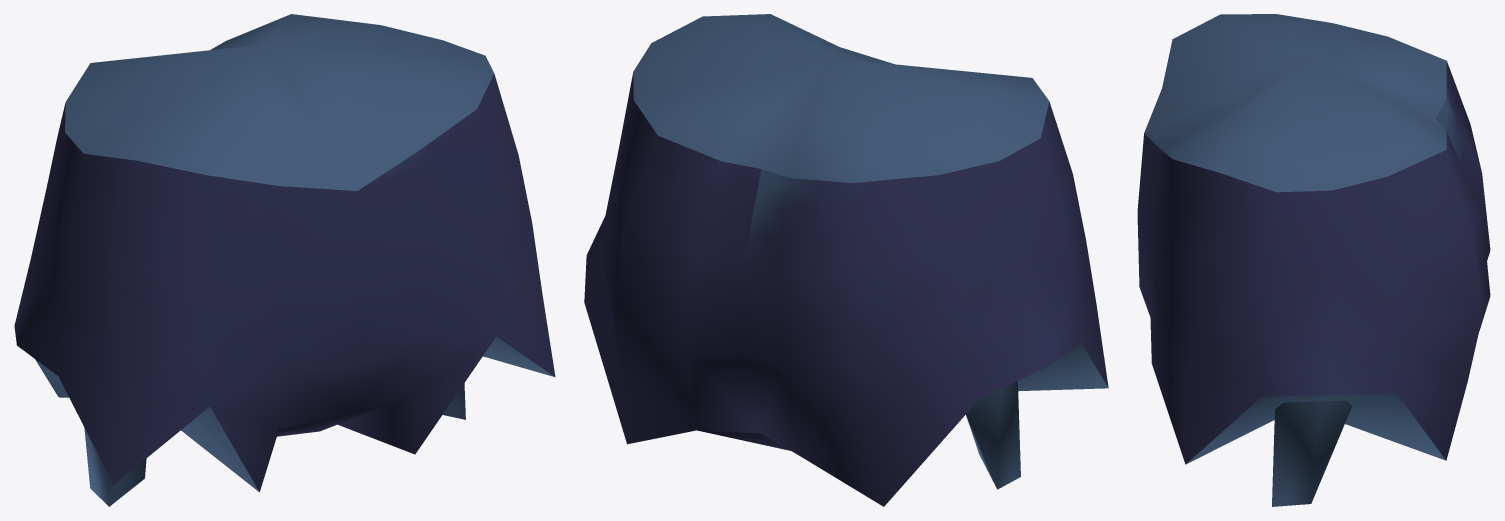
File: Z_Hip.fbx
3 views of the same model, side by side, from view 1: azimuth 30°, elevation 25°; view 2: azimuth 150°, elevation 25°; view 3: azimuth 270°, elevation 25° (orthographic). The views are drawn at different scales.
Visible parts, largest first — view 1: Z_Hip; view 2: Z_Hip; view 3: Z_Hip.
Boxes of the visible parts, box(x1,y1,x2,y2) form: Z_Hip: box(14, 14, 555, 506); Z_Hip: box(584, 14, 1108, 506); Z_Hip: box(1137, 14, 1490, 506).
Size of the model in its own units: 3511 by 2859 by 2489.
